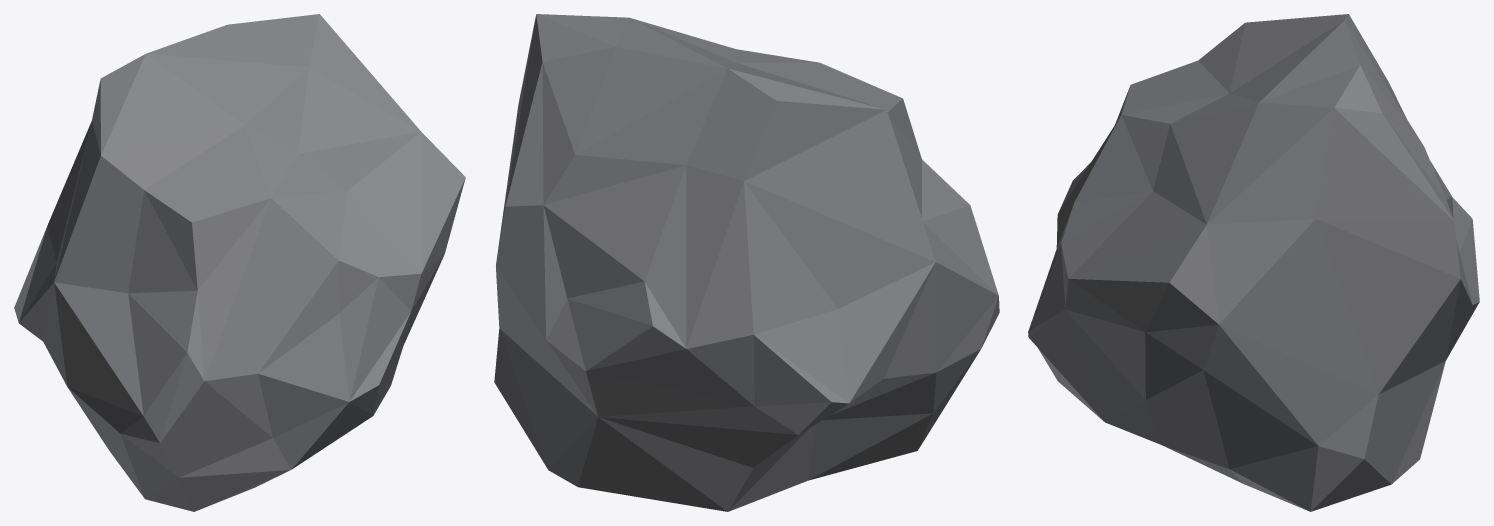
File: SM_rock2.fbx
3 views of the same model, side by side, from view 1: azimuth 30°, elevation 25°; view 2: azimuth 150°, elevation 25°; view 3: azimuth 270°, elevation 25° (orthographic). The views are drawn at different scales.
Visible parts, largest first — view 1: SM_rock2; view 2: SM_rock2; view 3: SM_rock2.
Part boxes in pixels (<box>): SM_rock2: <box>14,14,465,511</box>; SM_rock2: <box>494,14,999,511</box>; SM_rock2: <box>1028,14,1479,511</box>.
Bounding box in the file's own units: 106 × 99.47 × 101.
Materials: 1 (1 with a texture image).
